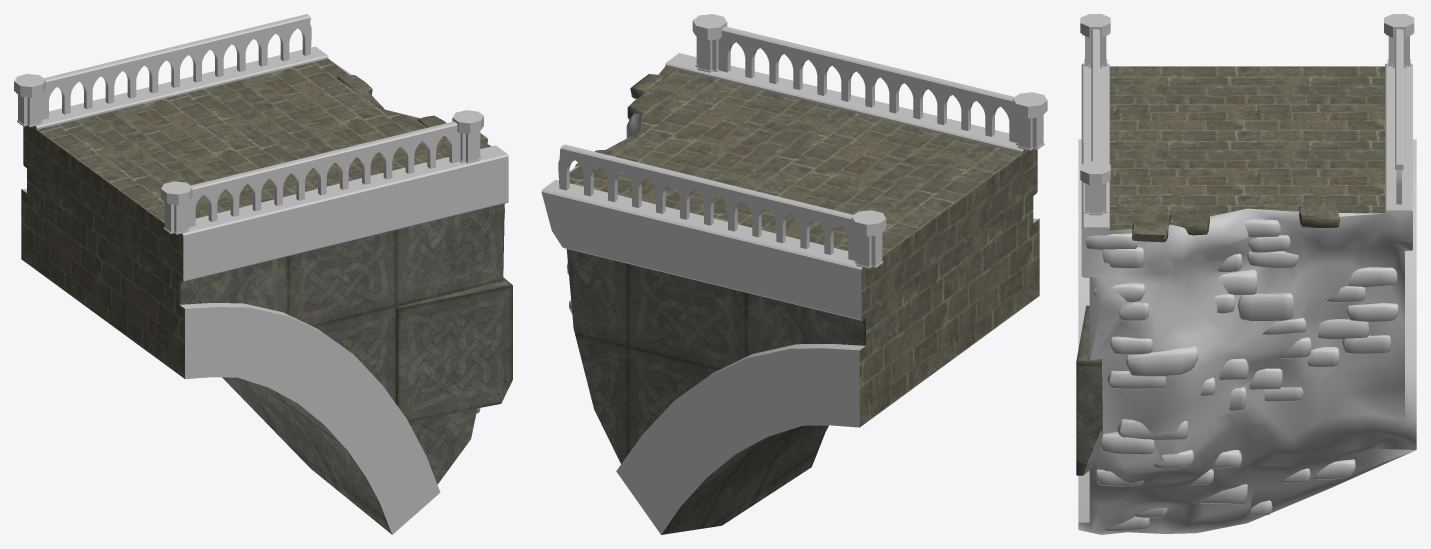
File: bridge_destroyed_01.fbx
3 renders of one model, left to right at view 1: azimuth 30°, elevation 25°; view 2: azimuth 150°, elevation 25°; view 3: azimuth 270°, elevation 25°, orthographic. The views are drawn at different scales.
Visible parts, largest first — view 1: bridge_destroyed_01; view 2: bridge_destroyed_01; view 3: bridge_destroyed_01.
Boxes of the visible parts, x1,y1,x2,y2 form: bridge_destroyed_01: [14, 14, 512, 534]; bridge_destroyed_01: [541, 14, 1047, 534]; bridge_destroyed_01: [1076, 14, 1416, 534].
Bounding box in the file's own units: 942 × 1026 × 782.
